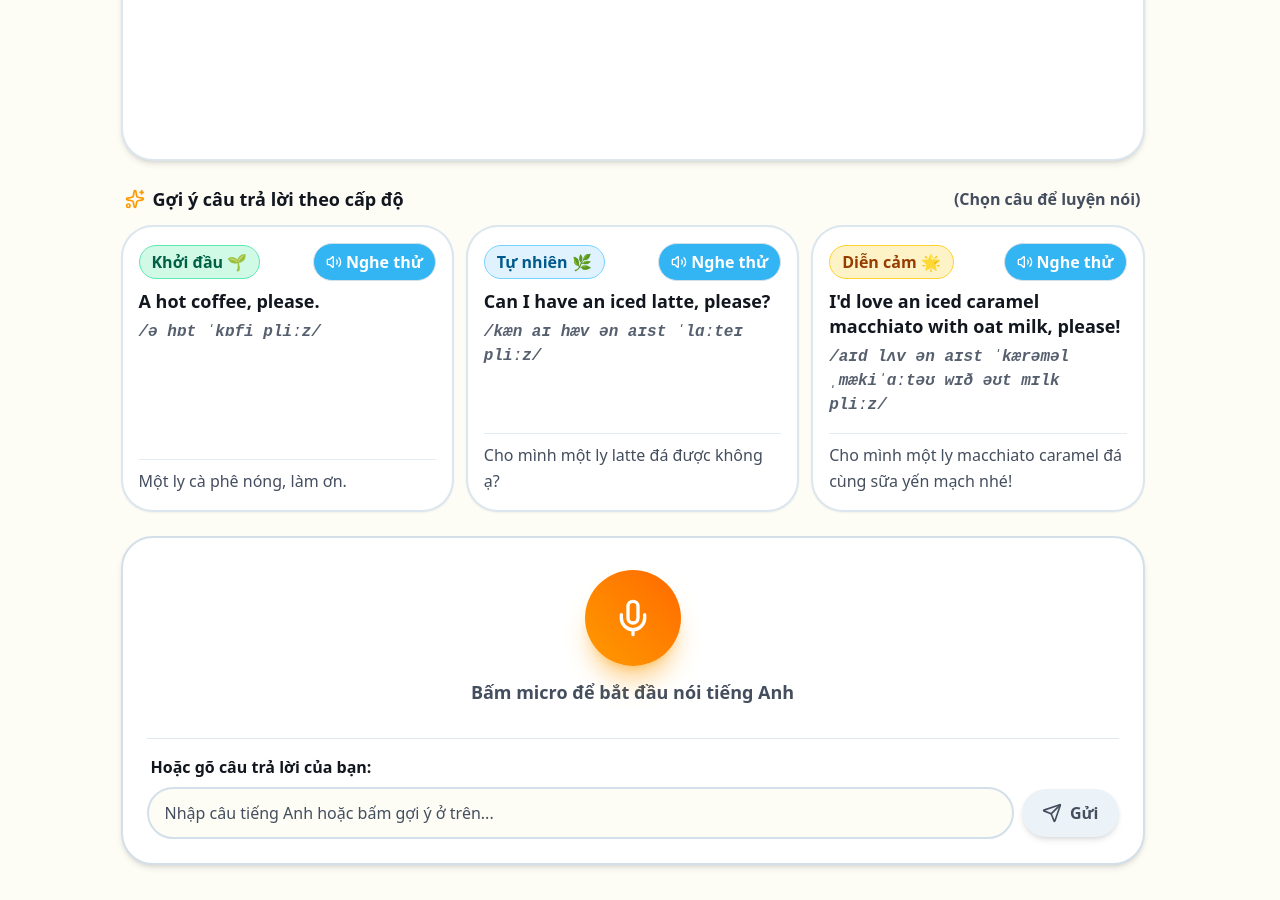
Test: SpeakingArena Component › handles completion and allows restarting session
(page scrolled)
Step 1. Type "Thanks" into the field with test id "text-input-fallback" → (580, 812), box [146, 786, 1014, 838]
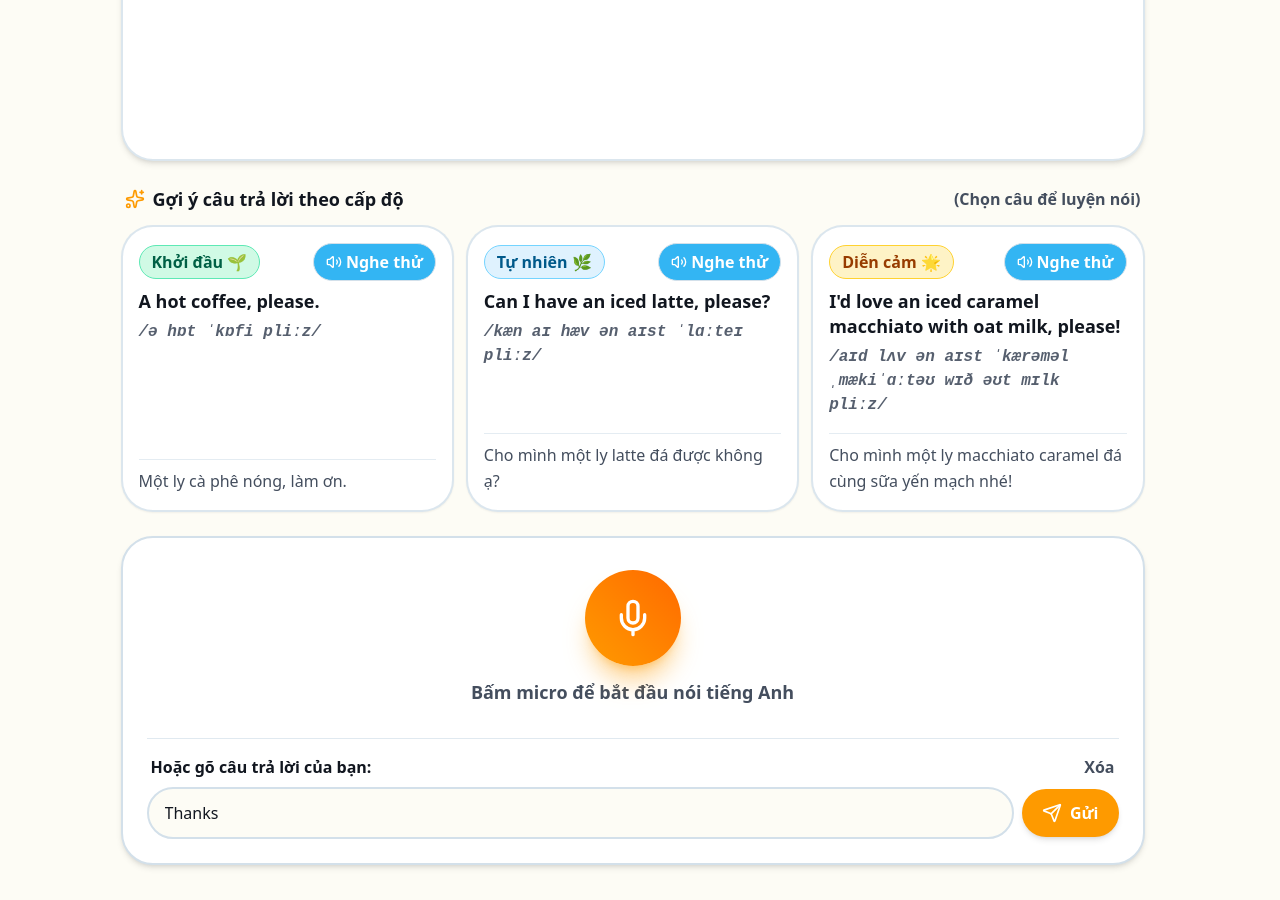
Step 2. Click the button with test id "text-submit-button" → (1070, 812), box [1022, 788, 1118, 836]
(page scrolled)
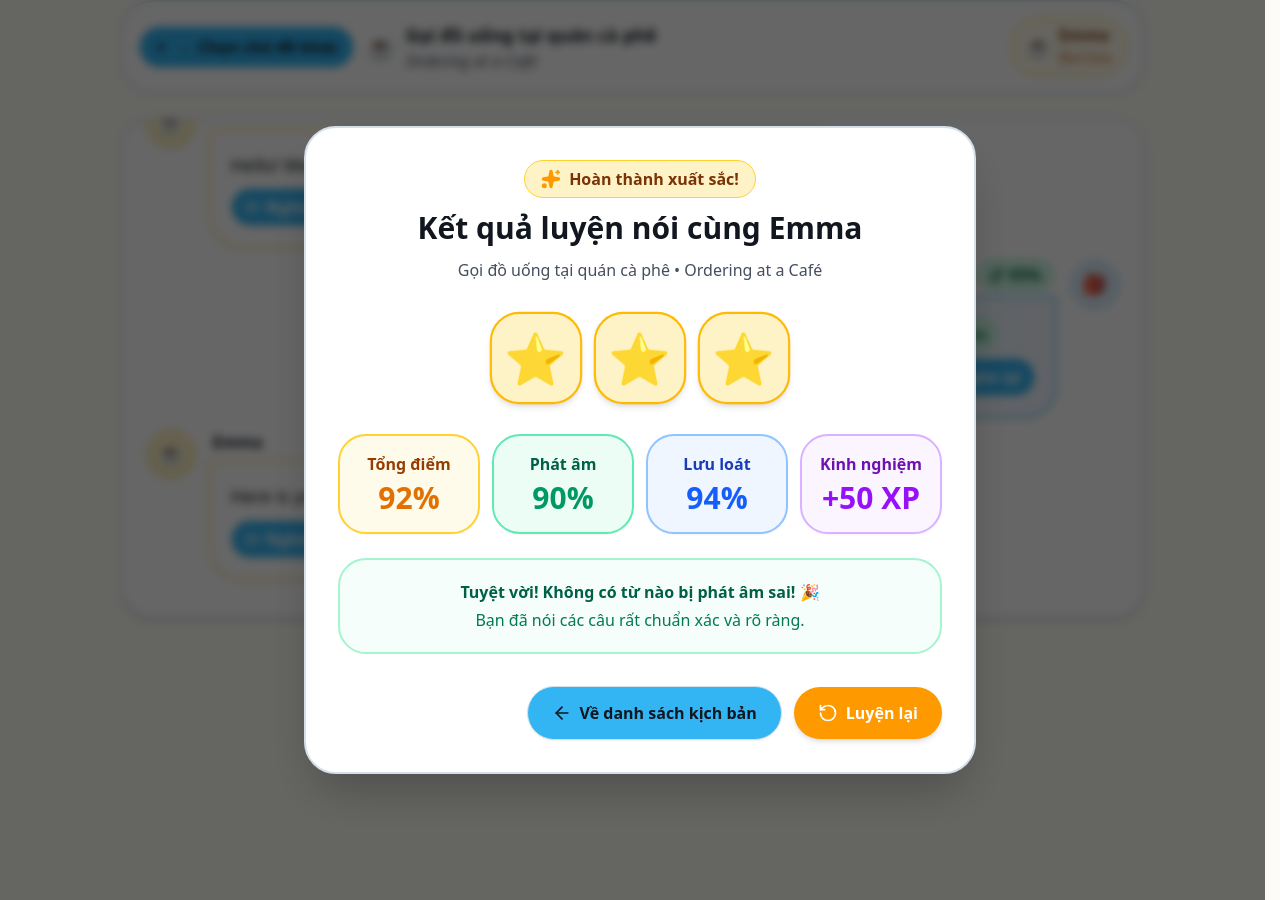
Expected: the text "Hoàn thành xuất sắc!" is shown, [569, 167, 739, 191]
Test restarting session
Step 3. Click the button "Luyện lại" → (868, 713), box [794, 687, 942, 739]
(page scrolled)
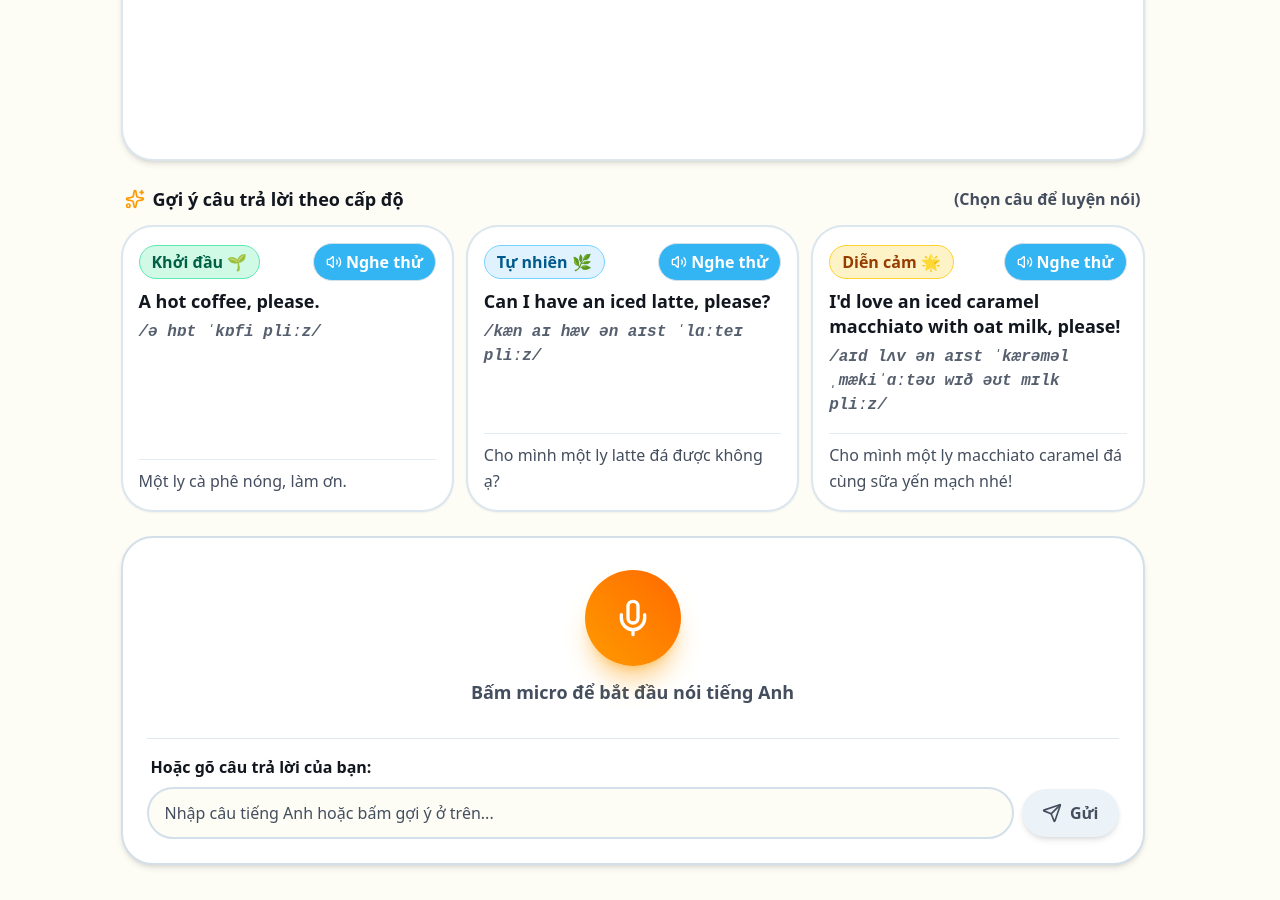
Expected: the button with test id "mic-pulse-button" is shown, [584, 570, 680, 666]
Expected: the field with test id "text-input-fallback" is shown, [146, 786, 1014, 838]
